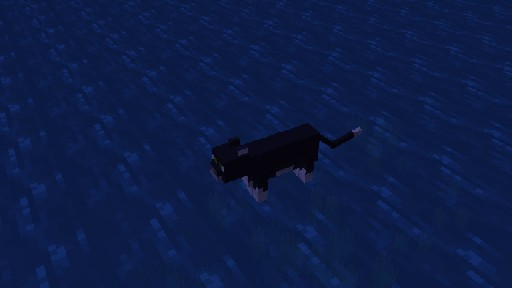cat: (209, 122, 361, 202)
